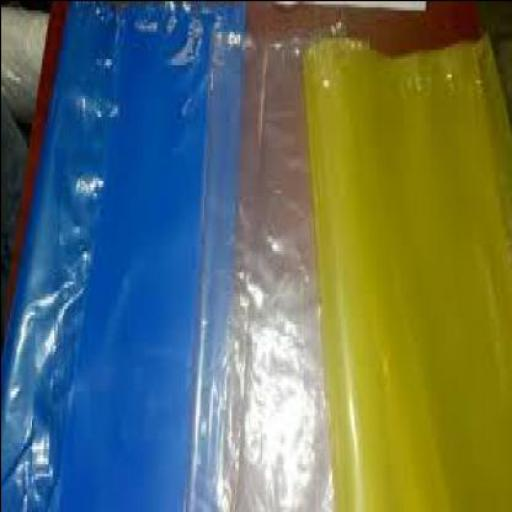plastic: (2, 0, 248, 510), (304, 27, 511, 510), (186, 21, 369, 509)
